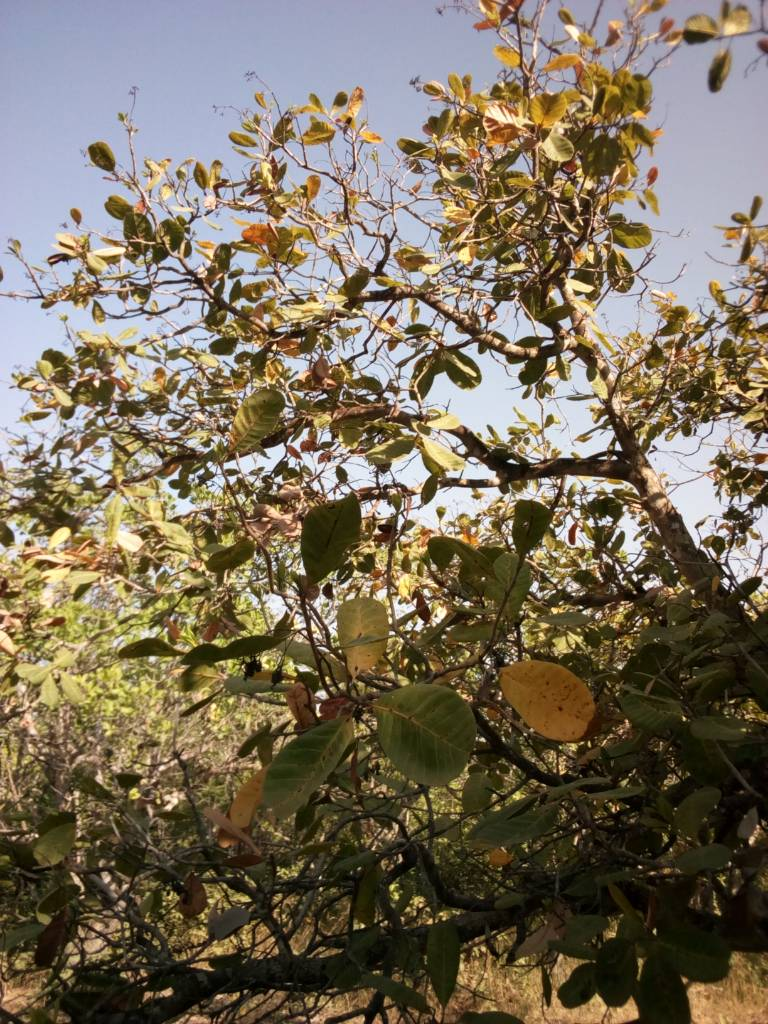Anthracnose: (265, 714, 357, 825), (497, 660, 596, 744)
